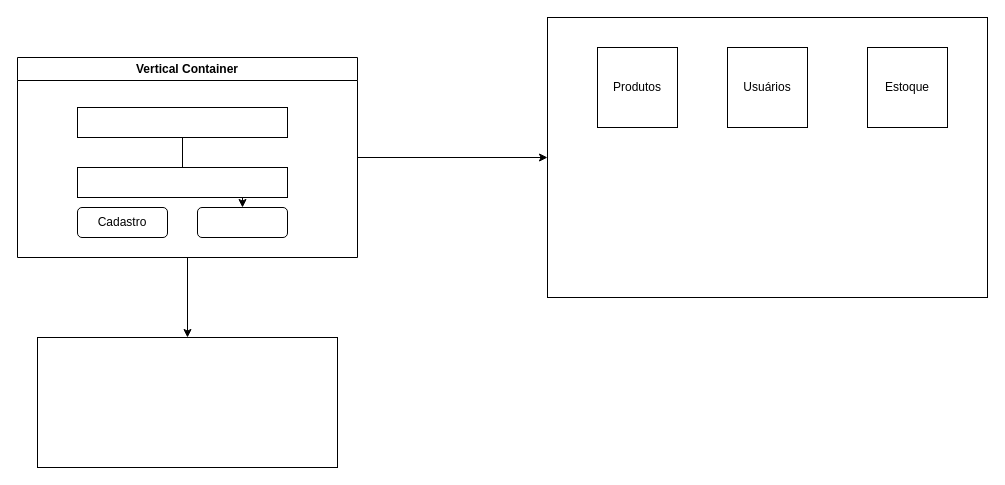
The diagram is 1005 pixels wide and 485 high, and some of its shapes have lost their labels. The shapes that lost their labels are listed below. From the top down, each one's centre as x and y in pixels, then its label:
At pixel 242 222: "Login".
At pixel 187 402: "Cadastrar cliente".
